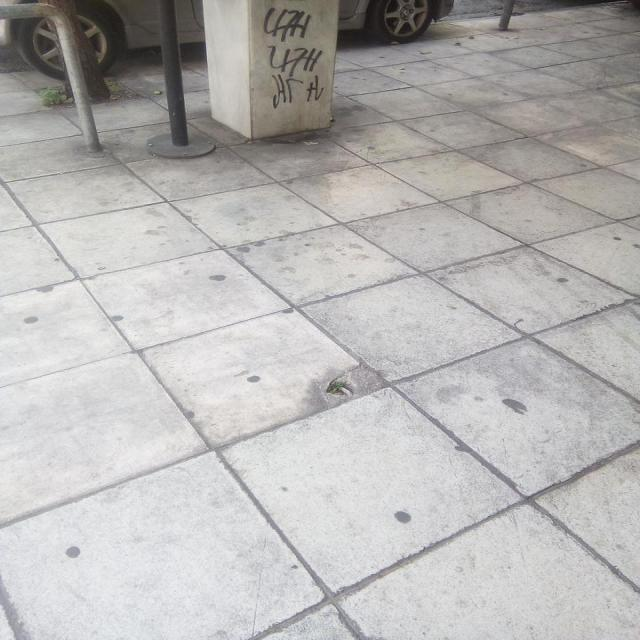nonspitting: (266, 5, 328, 110)
